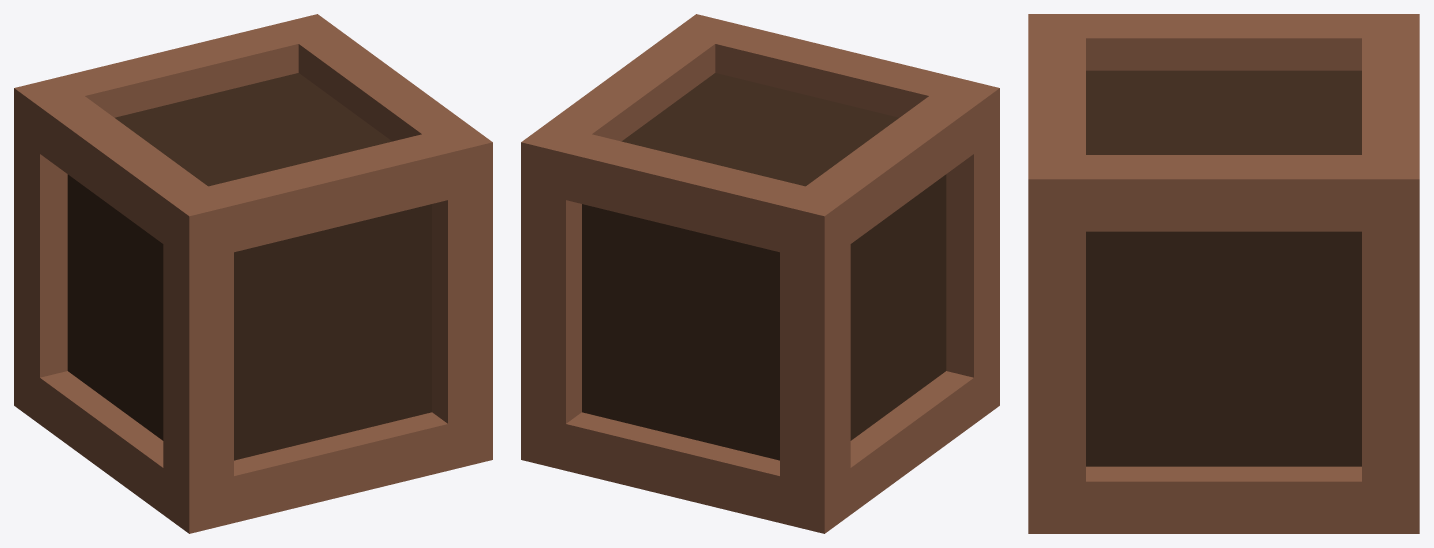
File: Caixa.fbx
3 renders of one model, left to right at view 1: azimuth 30°, elevation 25°; view 2: azimuth 150°, elevation 25°; view 3: azimuth 270°, elevation 25°, orthographic. The views are drawn at different scales.
Parts seen in each view (by area): view 1: Caixa.001; view 2: Caixa.001; view 3: Caixa.001.
Part boxes in pixels (bbox=[...]): Caixa.001: bbox=[14, 14, 492, 533]; Caixa.001: bbox=[521, 14, 999, 533]; Caixa.001: bbox=[1028, 14, 1419, 533].
Size of the model in its own units: 84.23 by 84.23 by 84.23.
Materials: 1 (1 with a texture image).
